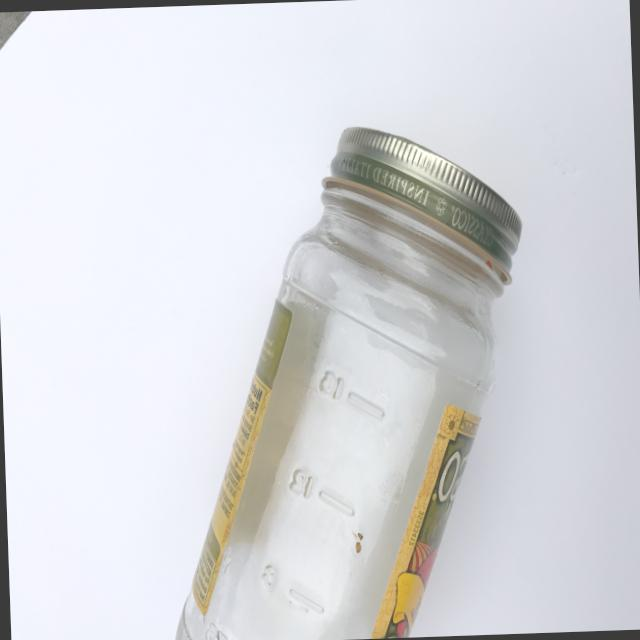Glass: (147, 109, 544, 640)
